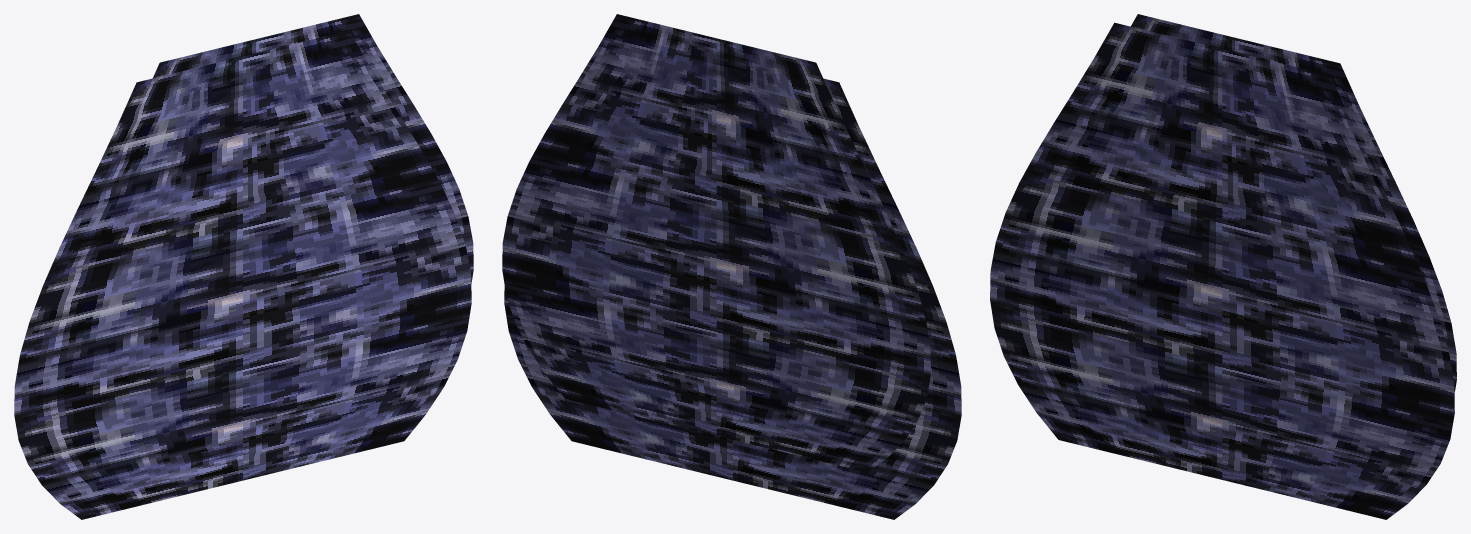
The model's file is pref_NewPokemonPage.fbx.
The picture shows the model from 3 angles, left to right: view 1: azimuth 30°, elevation 25°; view 2: azimuth 150°, elevation 25°; view 3: azimuth 330°, elevation 25°; orthographic projection.
Parts seen in each view (by area): view 1: role (×2); view 2: role (×2); view 3: role (×2).
Boxes of the visible parts, x1,y1,x2,y2 form: role (×2): [14, 14, 473, 519]; role (×2): [502, 14, 961, 519]; role (×2): [990, 14, 1456, 519].
Bounding box in the file's own units: 571 × 520 × 0.00331.
